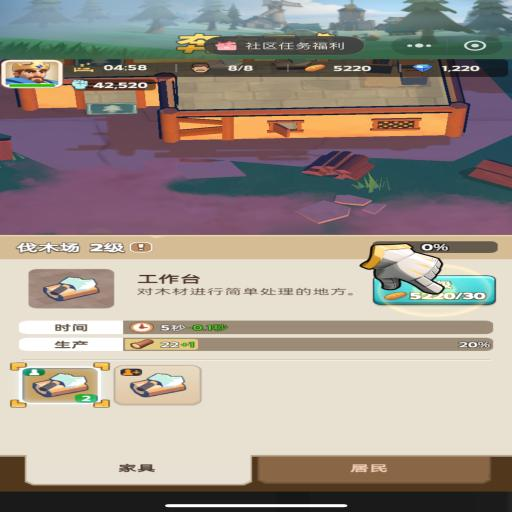newcomer_hand: (360, 242, 442, 294)
